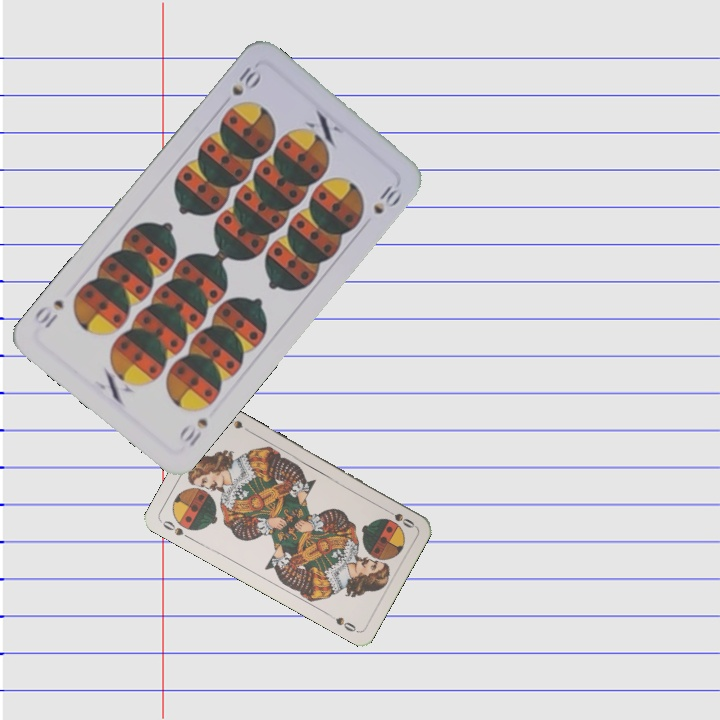S10: (174, 414, 211, 450), (227, 62, 262, 99)
SO: (380, 504, 417, 531), (158, 516, 194, 542)
